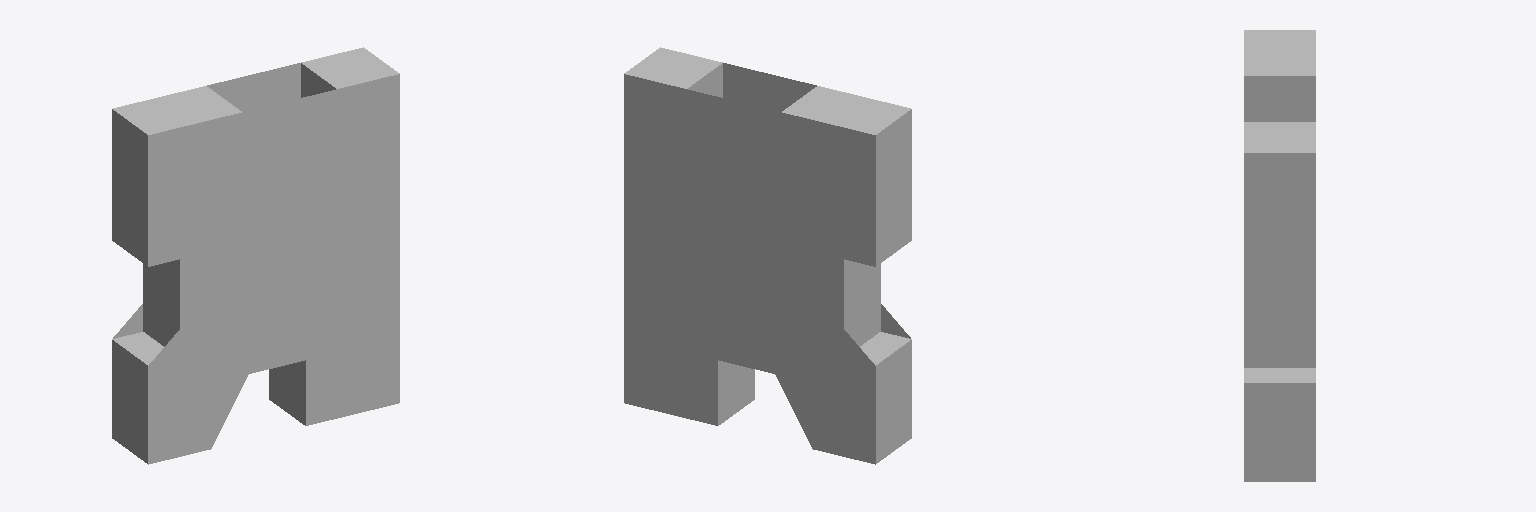
The model's file is building1.obj.
3 renders of one model, left to right at view 1: azimuth 30°, elevation 25°; view 2: azimuth 150°, elevation 25°; view 3: azimuth 270°, elevation 25°, orthographic.
Visible parts, largest first — view 1: building2; view 2: building2; view 3: building2.
Boxes of the visible parts, x1=… form: building2: x1=112, y1=47, x2=399, y2=464; building2: x1=624, y1=47, x2=911, y2=464; building2: x1=1244, y1=30, x2=1315, y2=481.
Bounding box in the file's own units: 40 × 50 × 10.